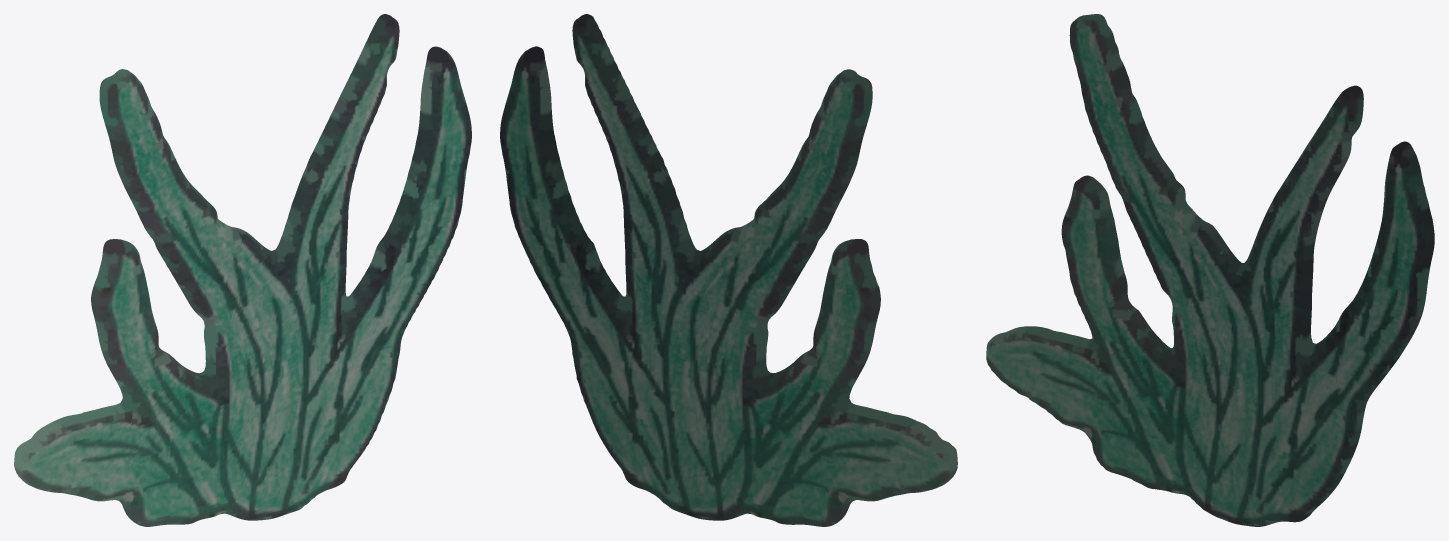
The model's file is seaweed.gltf.
3 renders of one model, left to right at view 1: azimuth 30°, elevation 25°; view 2: azimuth 150°, elevation 25°; view 3: azimuth 330°, elevation 25°, orthographic. The views are drawn at different scales.
Bounding box in the file's own units: 0.2229 × 0.2261 × 0.00997.
